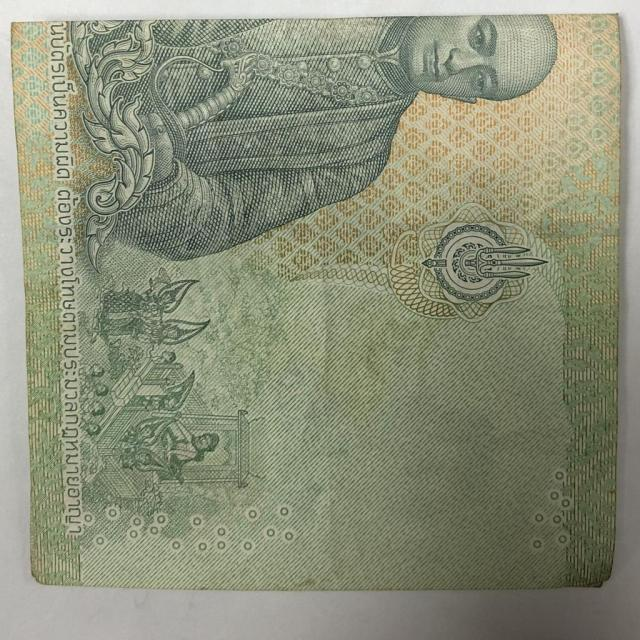THAI20: (12, 14, 621, 590)
